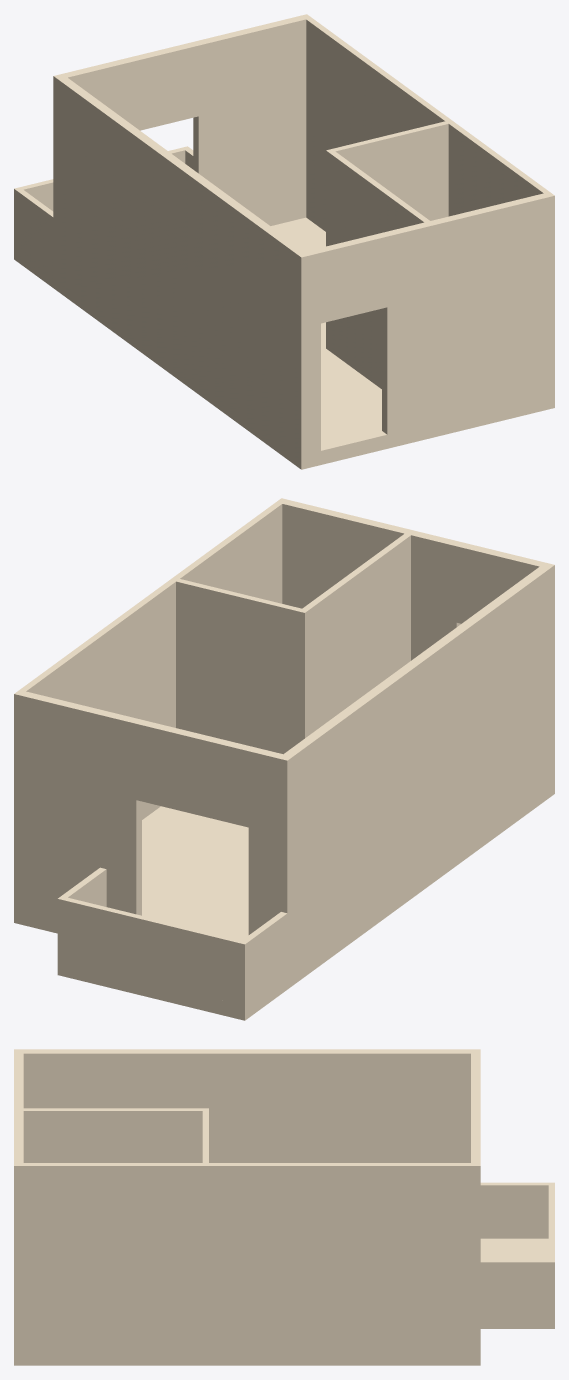
The picture shows the model from 3 angles, top to bottom: view 1: azimuth 30°, elevation 25°; view 2: azimuth 150°, elevation 25°; view 3: azimuth 270°, elevation 25°; orthographic projection. The views are drawn at different scales.
Bounding box in the file's own units: 4.25 × 3.4 × 8.35.
